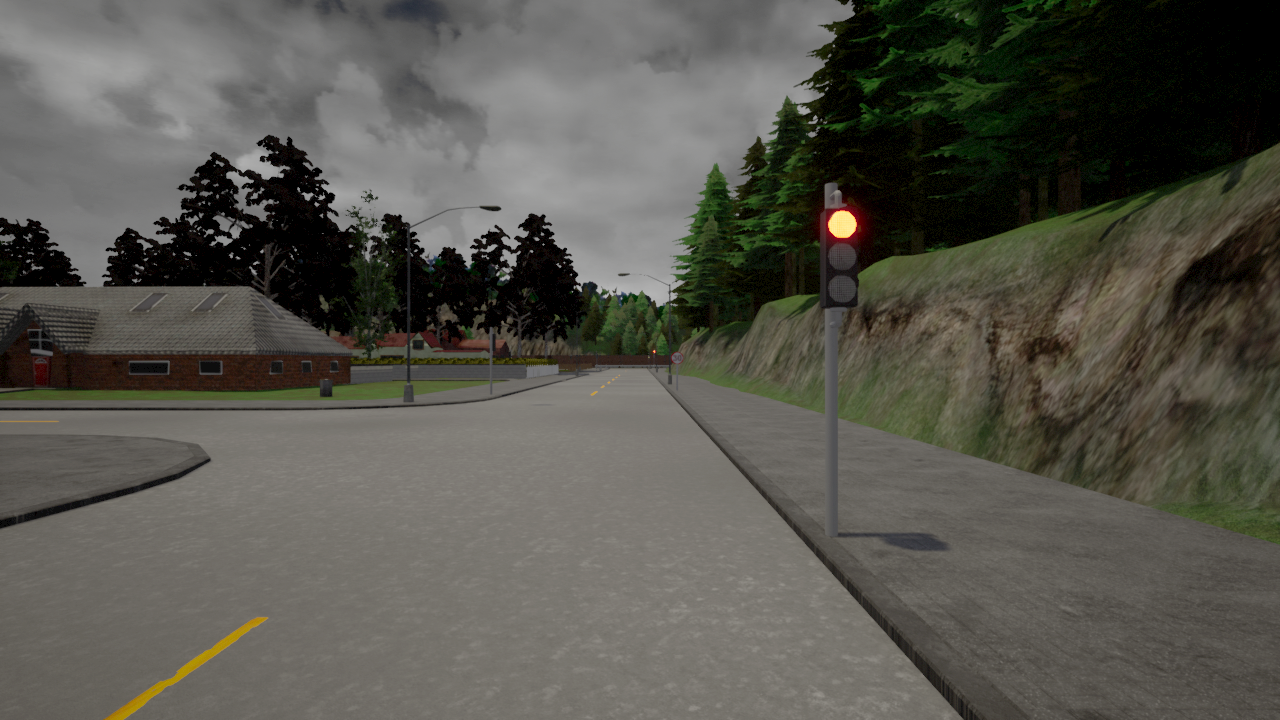red: (817, 206, 857, 309)
